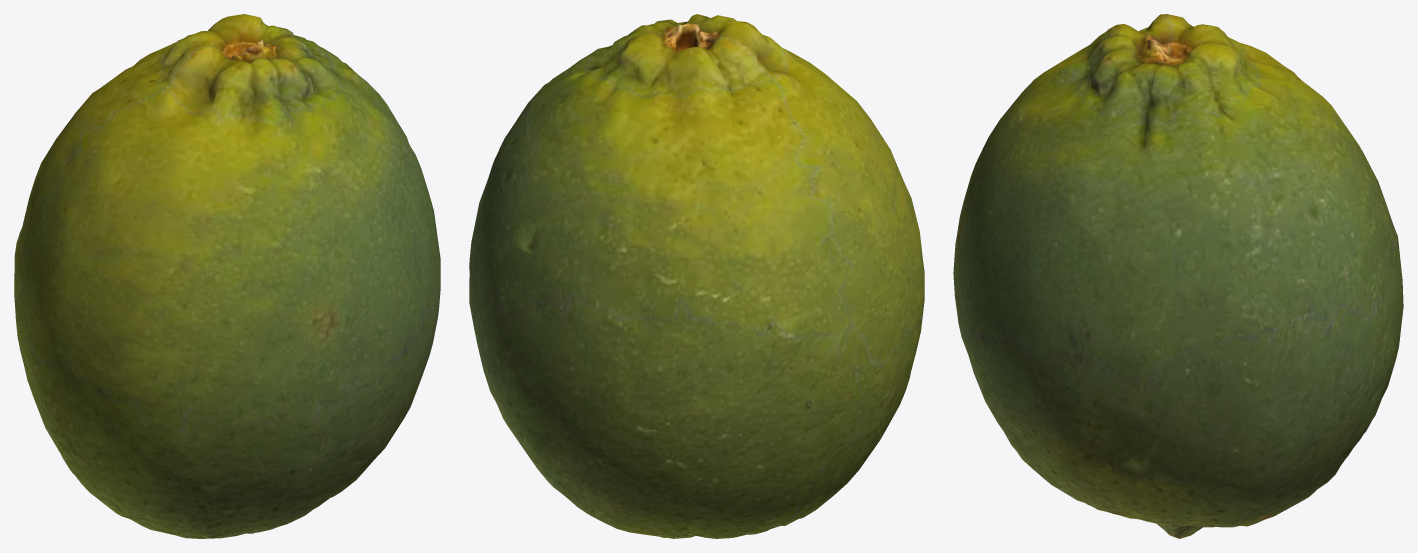
The model's file is food_lime_01.glb.
3 renders of one model, left to right at view 1: azimuth 30°, elevation 25°; view 2: azimuth 150°, elevation 25°; view 3: azimuth 270°, elevation 25°, orthographic.
Parts seen in each view (by area): view 1: food_lime_01; view 2: food_lime_01; view 3: food_lime_01.
Part boxes in pixels (x1,y1,x2,y2): food_lime_01: (14, 14, 440, 538); food_lime_01: (469, 14, 924, 538); food_lime_01: (953, 14, 1403, 538).
Bounding box in the file's own units: 0.0601 × 0.0754 × 0.0613.
Materials: 1 (1 with a texture image).
